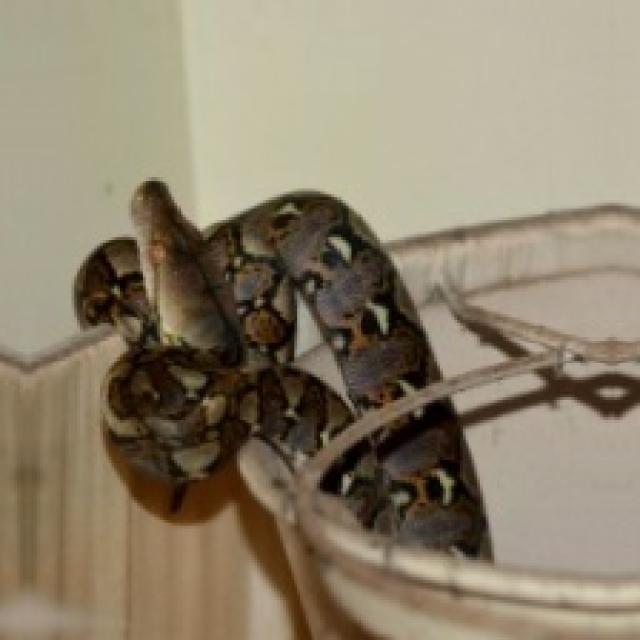reticulated python: (74, 180, 437, 483), (323, 400, 489, 557)
